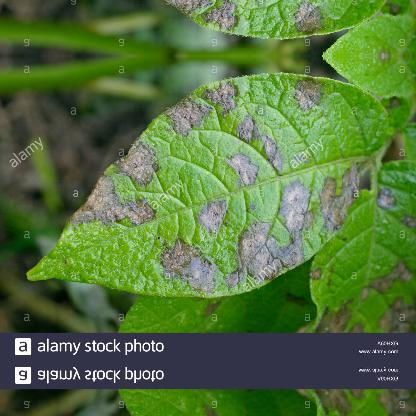Late-Blight: (30, 76, 398, 300)
